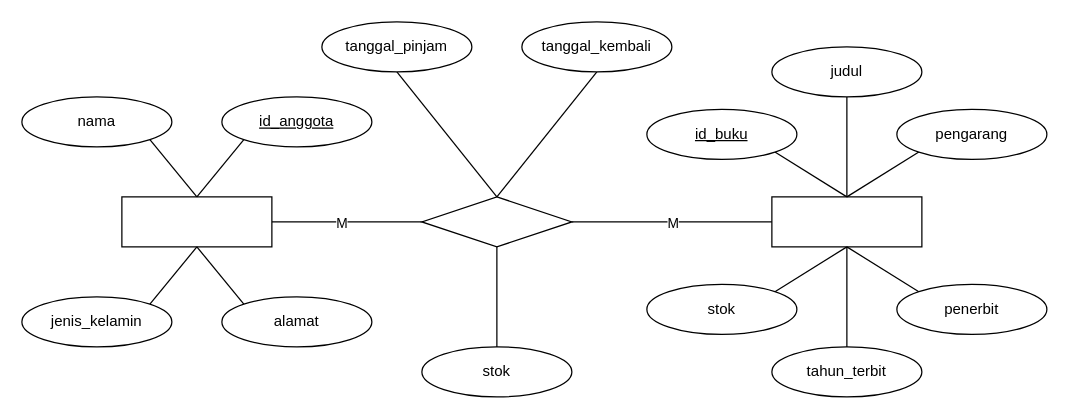
Image size: 1069x419. Some labels were removed from this diagram. Each missing label, with the centre of its shape:
"anggota" goes at pixel 196 221.
"buku" goes at pixel 846 221.
"peminjaman" goes at pixel 496 221.
